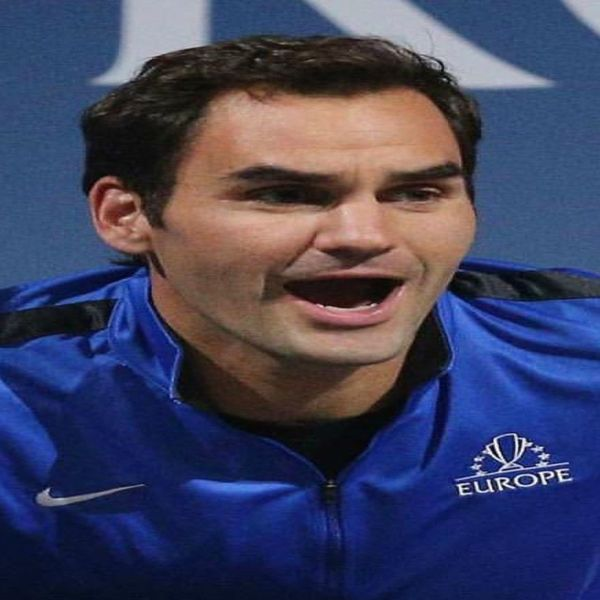nike: (34, 483, 153, 509)
